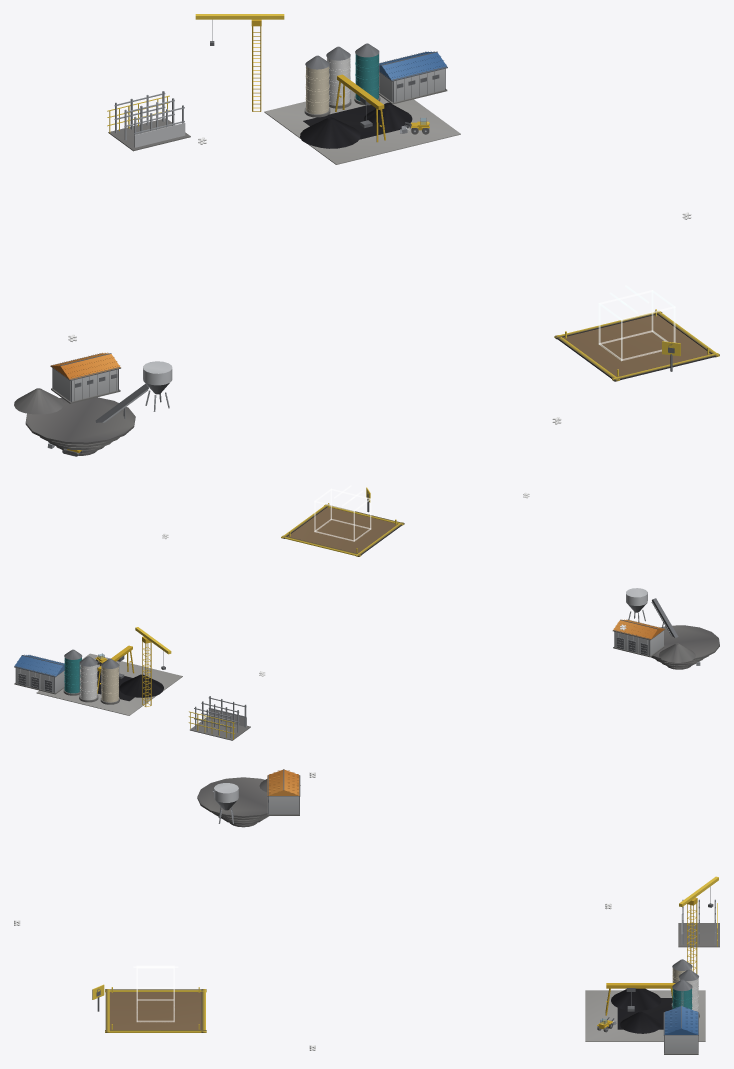
Rendered from Sites_P2.fbx.
3 renders of one model, top to bottom at view 1: azimuth 30°, elevation 25°; view 2: azimuth 150°, elevation 25°; view 3: azimuth 270°, elevation 25°, orthographic. The views are drawn at different scales.
Visible parts, largest first — view 1: Site.plant.Pad, Site.Store.Yard, Site.Quarry.Benches, Site.Store.Shed, Site.Construction, Site.Quarry.Shed, Site.Store.Silo0, Site.Store.Pile0, Site.plant.Ghost, Site.Store.Silo2, Site.Crane, Site.Store.Silo1 (+4 smaller); view 2: Site.plant.Pad, Site.Store.Yard, Site.Construction, Site.Store.Shed, Site.Quarry.Benches, Site.Quarry.Shed, Site.Store.Silo1, Site.Crane, Site.Store.Silo0, Site.Store.Pile0, Site.Store.Silo2, Site.plant.Ghost (+2 smaller); view 3: Site.plant.Pad, Site.Store.Yard, Site.Quarry.Benches, Site.Store.Shed, Site.Quarry.Shed, Site.Construction, Site.Store.Pile0, Site.Crane, Site.Store.Pile1, Site.Quarry.Hopper, Site.Store.Gantry, Site.plant.Ghost (+1 smaller).
Boxes of the visible parts, x1,y1,x2,y2 form: Site.plant.Pad: [554, 309, 719, 381]; Site.Store.Yard: [264, 90, 460, 164]; Site.Quarry.Benches: [25, 397, 135, 455]; Site.Store.Shed: [379, 51, 447, 104]; Site.Construction: [107, 91, 190, 151]; Site.Quarry.Shed: [50, 352, 120, 403]; Site.Store.Silo0: [304, 55, 330, 117]; Site.Store.Pile0: [300, 117, 360, 148]; Site.plant.Ghost: [598, 285, 675, 361]; Site.Store.Silo2: [354, 43, 380, 105]; Site.Crane: [195, 14, 284, 111]; Site.Store.Silo1: [326, 46, 351, 108]; Site.plant.Pad: [281, 503, 404, 556]; Site.Store.Yard: [36, 653, 182, 715]; Site.Construction: [188, 696, 250, 740]; Site.Store.Shed: [14, 654, 64, 694]; Site.Quarry.Benches: [651, 625, 719, 669]; Site.Quarry.Shed: [612, 619, 665, 657]; Site.Store.Silo1: [79, 656, 98, 702]; Site.Crane: [135, 627, 171, 706]; Site.Store.Silo0: [100, 658, 119, 704]; Site.Store.Pile0: [119, 674, 163, 697]; Site.Store.Silo2: [63, 649, 82, 695]; Site.plant.Ghost: [314, 485, 371, 541]; Site.plant.Pad: [105, 987, 206, 1032]; Site.Store.Yard: [585, 990, 705, 1041]; Site.Quarry.Benches: [197, 777, 268, 827]; Site.Store.Shed: [663, 1005, 698, 1054]; Site.Quarry.Shed: [267, 769, 300, 815]; Site.Construction: [678, 899, 719, 947]; Site.Store.Pile0: [611, 988, 661, 1010]; Site.Crane: [679, 876, 718, 973]; Site.Store.Pile1: [620, 1011, 661, 1033]; Site.Quarry.Hopper: [214, 783, 238, 823]; Site.Store.Gantry: [605, 983, 675, 1015]; Site.plant.Ghost: [133, 965, 178, 1021].
Bounding box in the file's own units: 29134 × 5093 × 30560.
